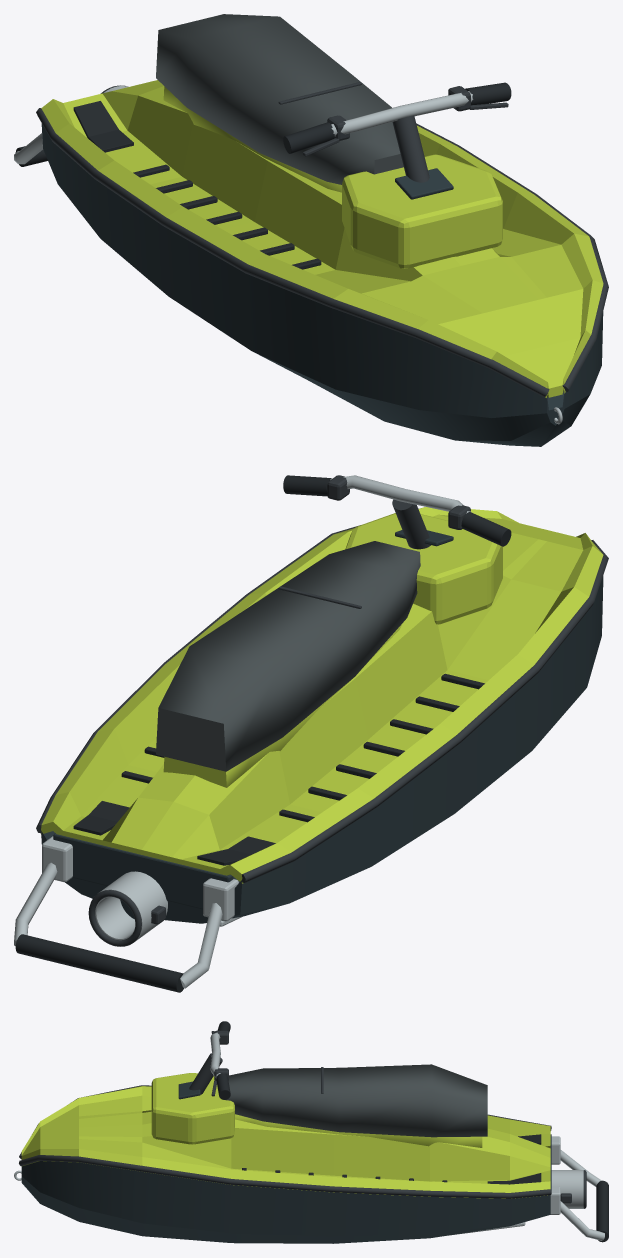
The model's file is city-personal-watercraft.glb.
3 views of the same model, one above another, from view 1: azimuth 30°, elevation 25°; view 2: azimuth 150°, elevation 25°; view 3: azimuth 270°, elevation 25° (orthographic). The views are drawn at different scales.
Parts seen in each view (by area): view 1: Assembly | Personal craft lime deck, Assembly | Personal craft dark lower hull, Assembly | Saddle and seat upholstery, Assembly | Graphite mechanism, Assembly | Textured-looking rubber trim, Assembly | Brushed marine hardware; view 2: Assembly | Personal craft lime deck, Assembly | Saddle and seat upholstery, Assembly | Personal craft dark lower hull, Assembly | Textured-looking rubber trim, Assembly | Graphite mechanism, Assembly | Brushed marine hardware; view 3: Assembly | Personal craft lime deck, Assembly | Personal craft dark lower hull, Assembly | Saddle and seat upholstery, Assembly | Graphite mechanism, Assembly | Brushed marine hardware, Assembly | Textured-looking rubber trim.
Boxes of the visible parts, x1,y1,x2,y2 form: Assembly | Personal craft lime deck: (41, 80, 603, 397); Assembly | Personal craft dark lower hull: (41, 123, 603, 446); Assembly | Saddle and seat upholstery: (156, 14, 403, 184); Assembly | Graphite mechanism: (36, 82, 608, 397); Assembly | Textured-looking rubber trim: (15, 82, 511, 269); Assembly | Brushed marine hardware: (14, 86, 562, 424); Assembly | Personal craft lime deck: (41, 507, 603, 883); Assembly | Saddle and seat upholstery: (156, 541, 420, 771); Assembly | Personal craft dark lower hull: (41, 530, 603, 923); Assembly | Textured-looking rubber trim: (15, 475, 511, 992); Assembly | Graphite mechanism: (36, 475, 608, 946); Assembly | Brushed marine hardware: (14, 475, 471, 988); Assembly | Personal craft lime deck: (21, 1073, 550, 1198); Assembly | Personal craft dark lower hull: (21, 1081, 551, 1243); Assembly | Saddle and seat upholstery: (226, 1064, 487, 1137); Assembly | Graphite mechanism: (19, 1030, 586, 1208); Assembly | Brushed marine hardware: (14, 1032, 604, 1240); Assembly | Textured-looking rubber trim: (216, 1021, 608, 1242).
Bounding box in the file's own units: 1.2 × 1.09 × 3.21.
